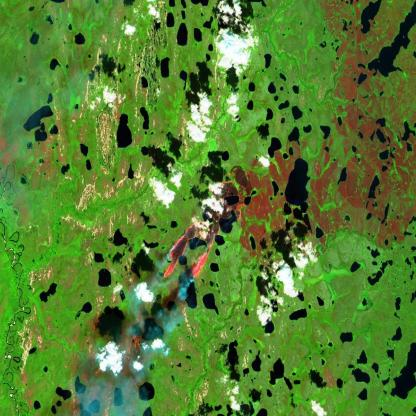fire: (160, 166, 252, 288)
